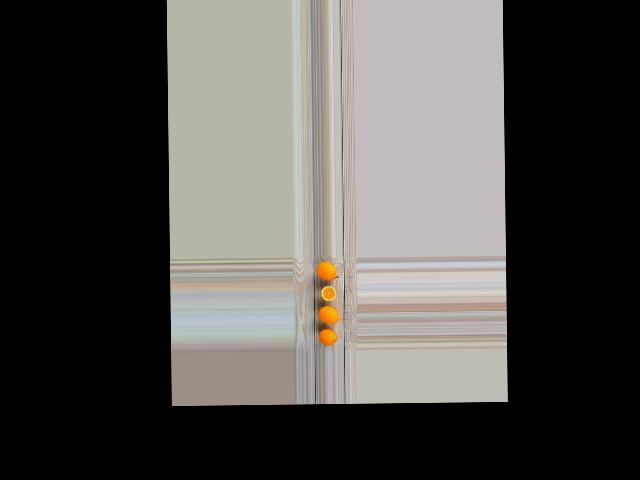lemon: (316, 261, 340, 280)
